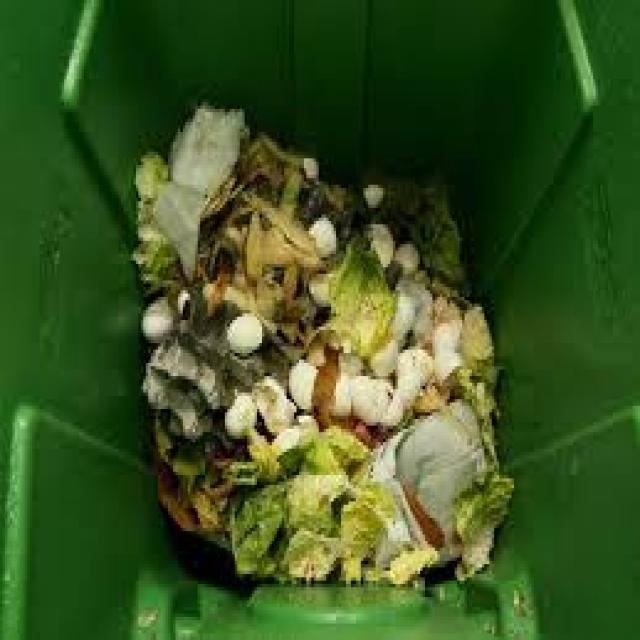Wet: (132, 79, 519, 598), (279, 321, 435, 429), (213, 275, 284, 378), (311, 206, 358, 260)
